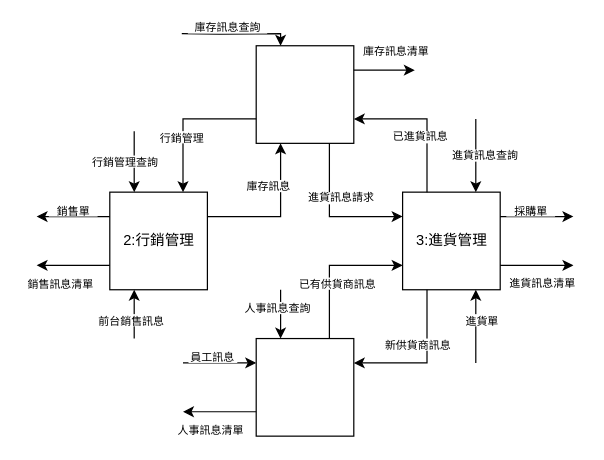
Image size: 604x460. Some labels were removed from this diagram. Here are the shapes that lost their labels. From the top down, the box of each, then its label:
(255, 45, 354, 143): 1:庫存管理
(255, 337, 354, 436): 4:人事管理
